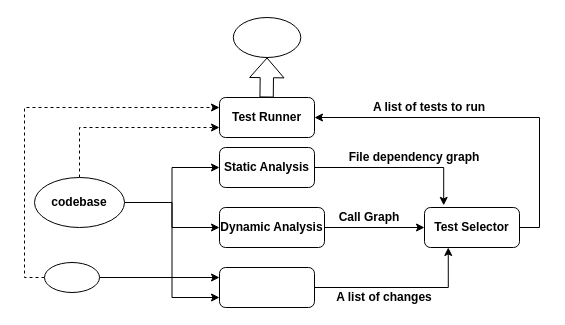
This 565x325 diagram has some shape labels left out. Each missing label, with the centre of its shape:
Change Analysis: [266,287]
diff: [72,277]
Result: [266,37]
